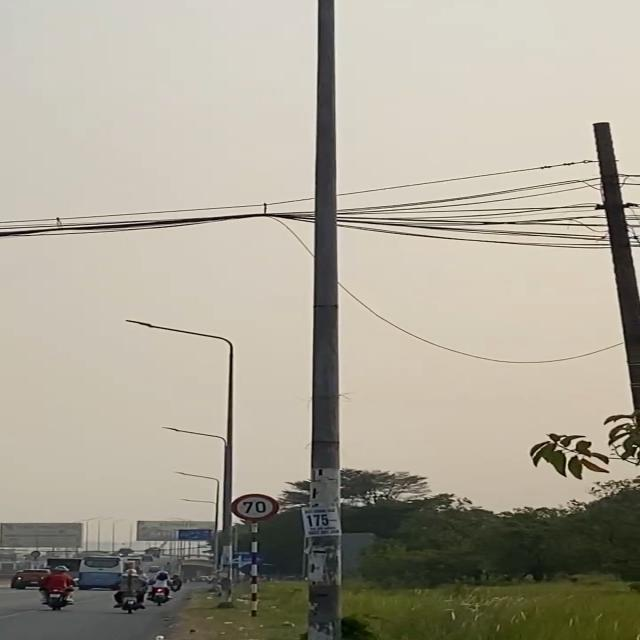127-toc-do-toi-da-70: (231, 493, 280, 521)
